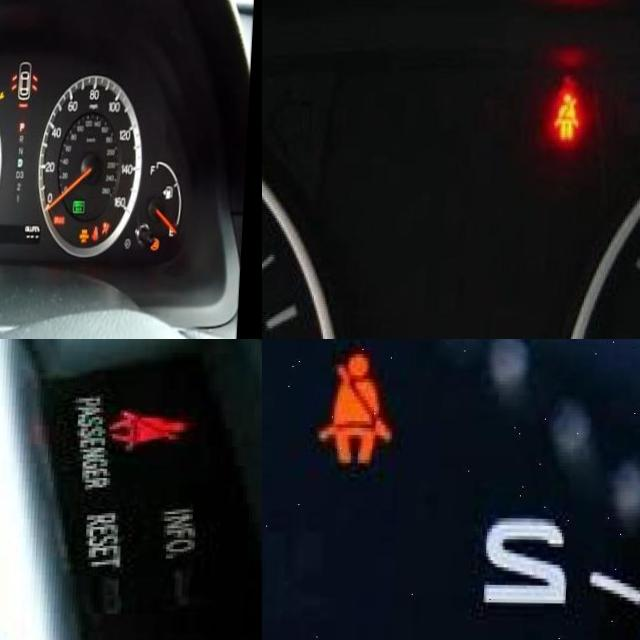Seat Belt: (318, 353, 401, 465), (110, 406, 190, 450), (556, 92, 582, 141)
